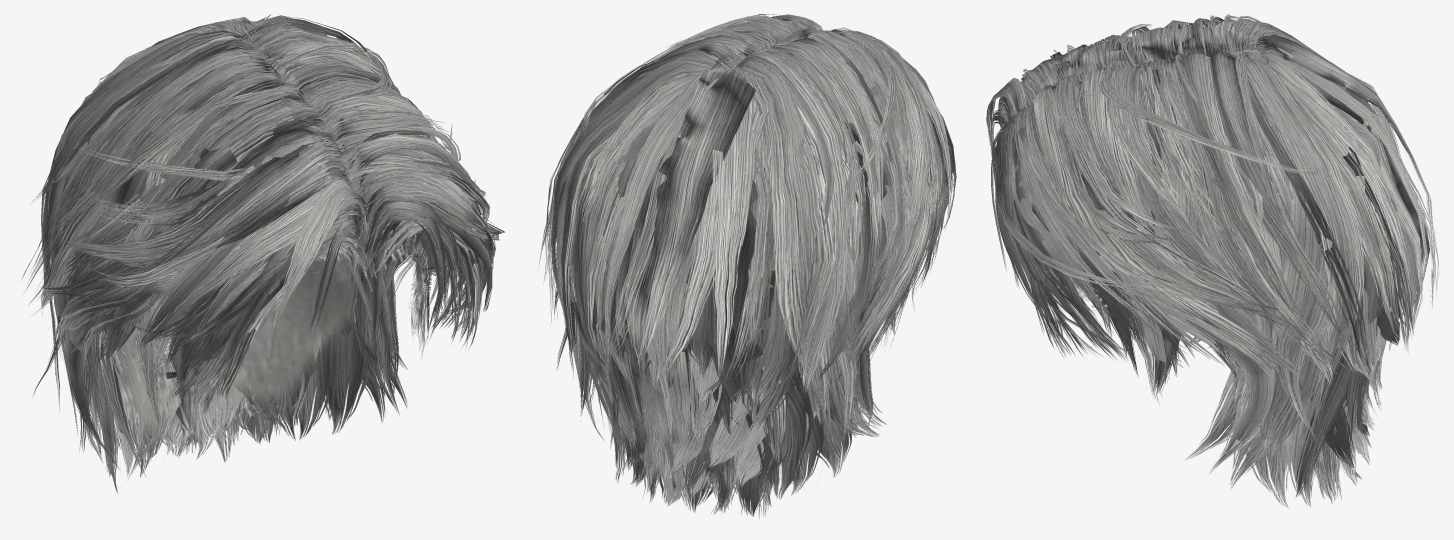
Rendered from hair005.glb.
The picture shows the model from 3 angles, left to right: view 1: azimuth 30°, elevation 25°; view 2: azimuth 150°, elevation 25°; view 3: azimuth 270°, elevation 25°; orthographic projection. The views are drawn at different scales.
Parts seen in each view (by area): view 1: hair, scalp; view 2: hair; view 3: hair.
Boxes of the visible parts, <box> form: hair: <box>21,14,504,494</box>; scalp: <box>113,51,439,437</box>; hair: <box>537,14,956,518</box>; hair: <box>986,14,1438,507</box>.
Size of the model in its own units: 0.1786 by 0.2095 by 0.1891.
2 materials, 2 textured.
